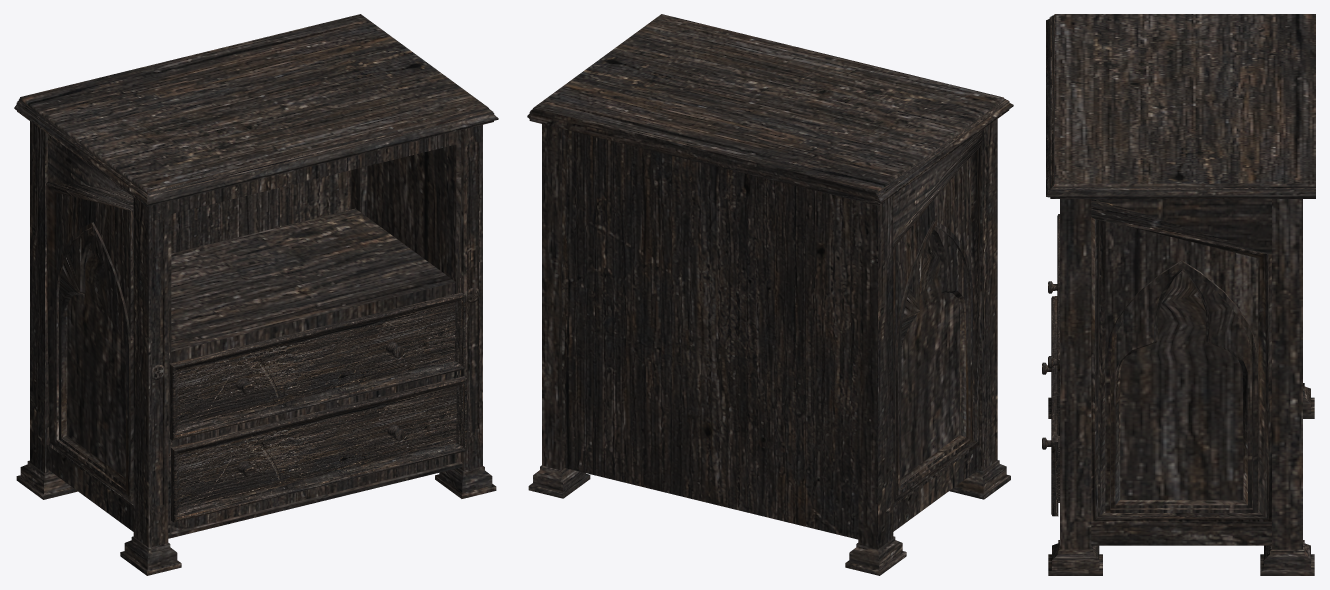
Rendered from 抽屉柜子.fbx.
3 views of the same model, side by side, from view 1: azimuth 30°, elevation 25°; view 2: azimuth 150°, elevation 25°; view 3: azimuth 270°, elevation 25° (orthographic). The views are drawn at different scales.
Parts seen in each view (by area): view 1: 柜体.001, 抽屉.002, 抽屉.003; view 2: 柜体.001; view 3: 柜体.001, 抽屉.003, 抽屉.002.
Boxes of the visible parts, bbox=[...] form: 柜体.001: bbox=[14, 14, 498, 575]; 抽屉.002: bbox=[169, 292, 465, 440]; 抽屉.003: bbox=[171, 376, 466, 522]; 柜体.001: bbox=[527, 14, 1013, 575]; 柜体.001: bbox=[1046, 14, 1315, 575]; 抽屉.003: bbox=[1042, 296, 1059, 516]; 抽屉.002: bbox=[1048, 214, 1059, 435].
Size of the model in its own units: 120 by 125 by 79.28.
Materials: 3 (3 with a texture image).
